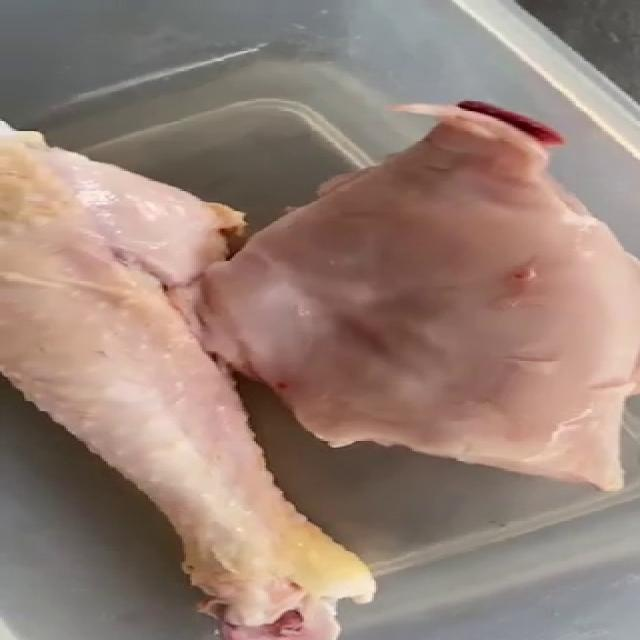chicken: (0, 117, 377, 639), (171, 98, 639, 493)
